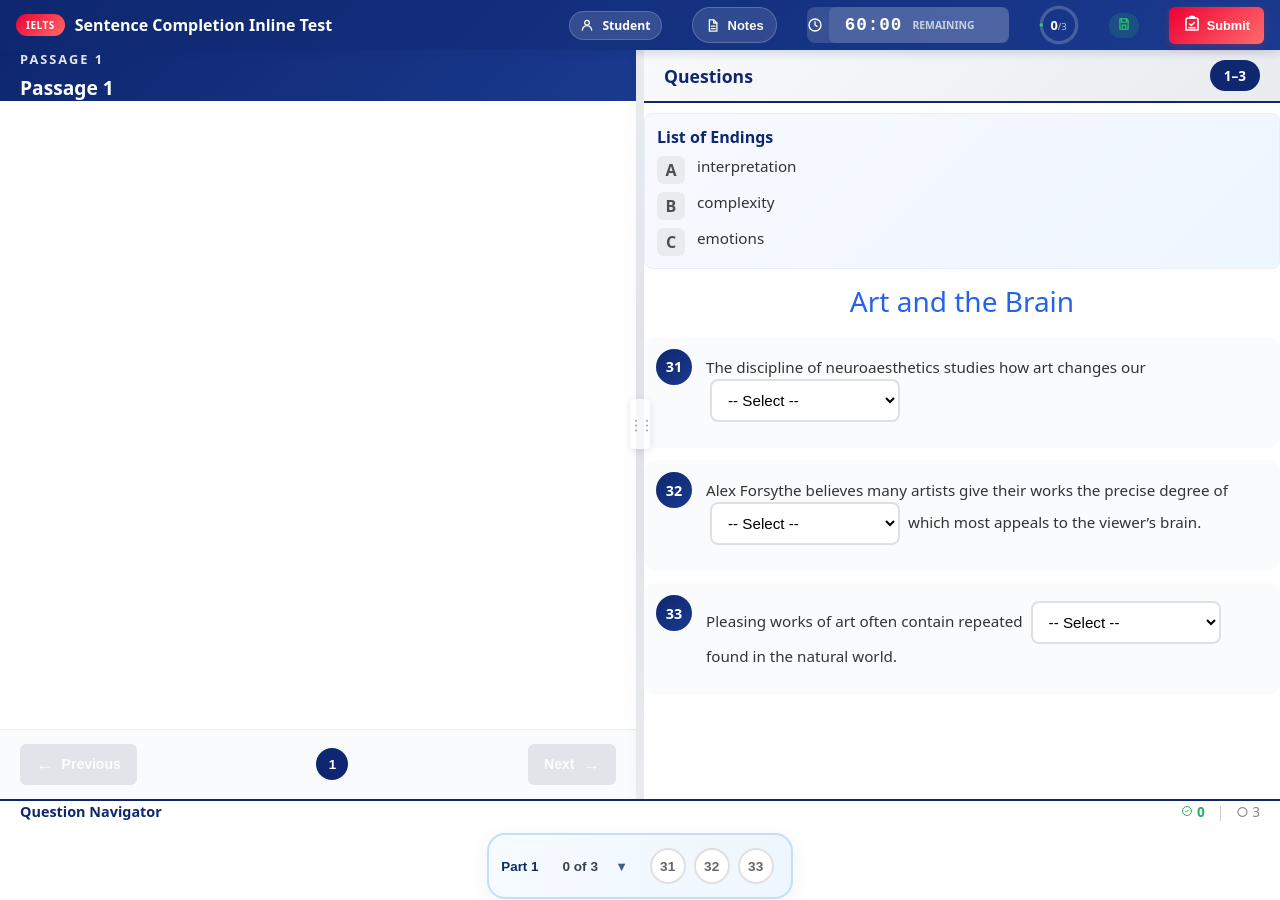
Test case: DoReadingTest integration - part navigation and focus › renders sentence-completion combobox inline at the authored blank position
The width and height of the screenshot is (1280, 900).
Expected: the text "PASSAGE 1" is shown, [20,50,104,68]
Expected: the text "List of Endings" is shown, [657,126,773,148]
Select "C. emotions" in the dropdown named "choose ending for question 31" at (805, 401), box [710,379,900,422]
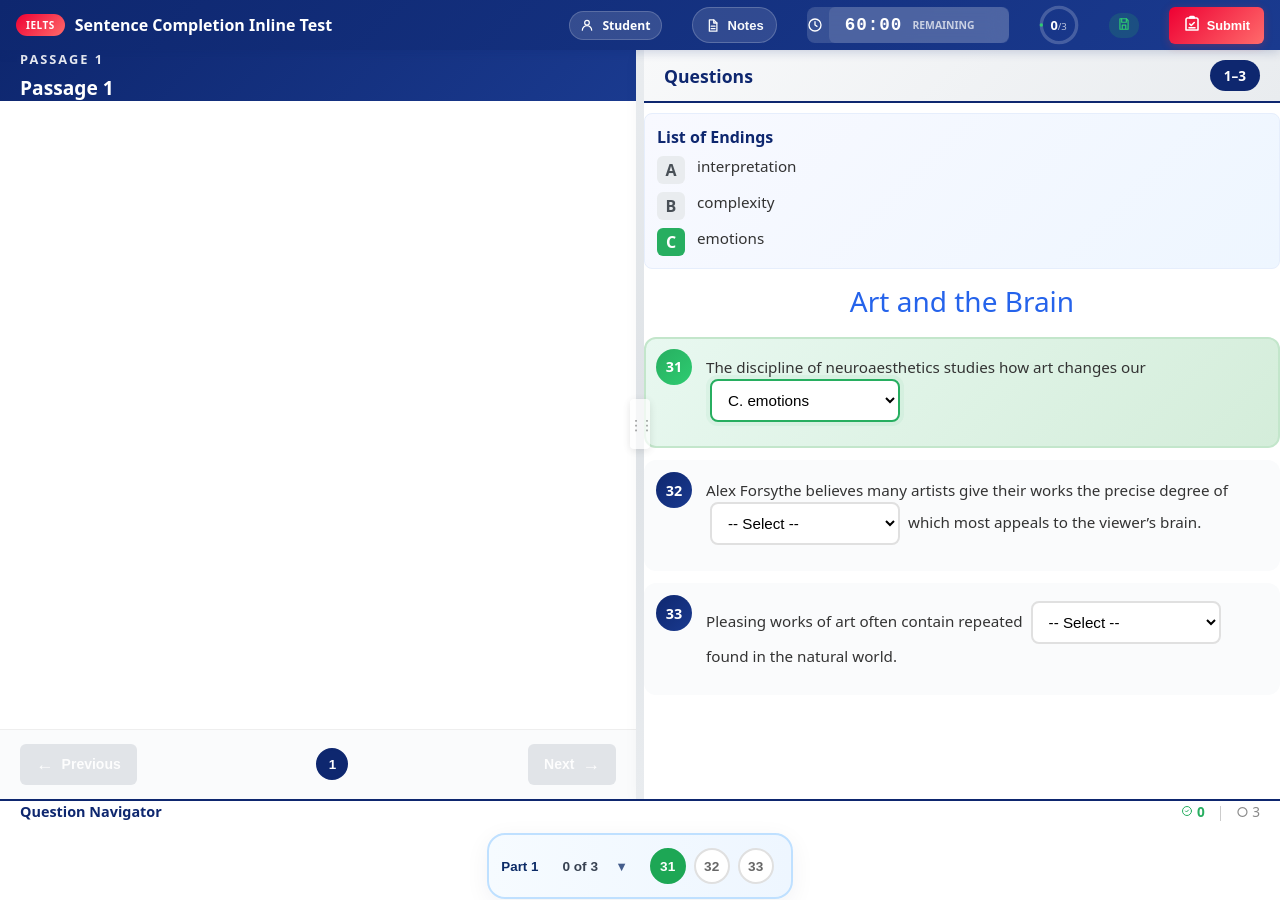
Now the 1st element with class "answered" is shown, box [644,337,1279,448]
